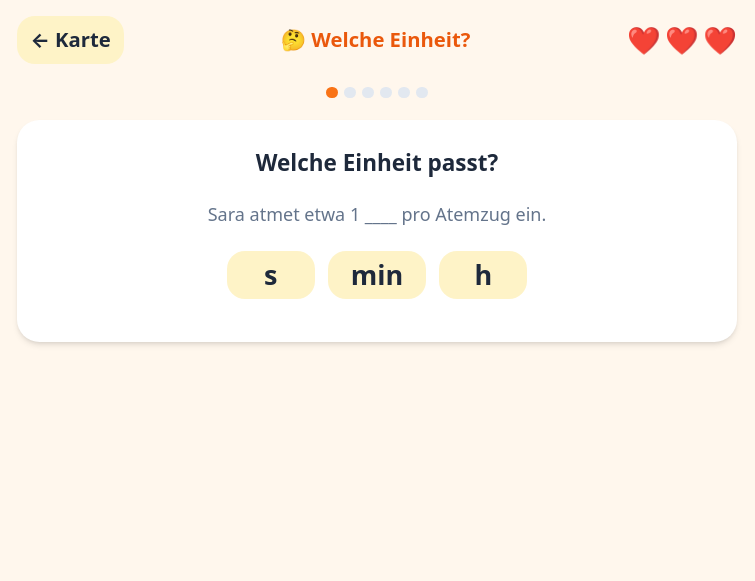
Test: RoundScreen › renders a task and gives feedback after a multiple-choice answer
The image size is (755, 581).
expect the heading "Welche Einheit passt?" is shown: met, box [256,147,498,178]
Click the button "s" at {"x": 271, "y": 275}, box [227,251,315,299]
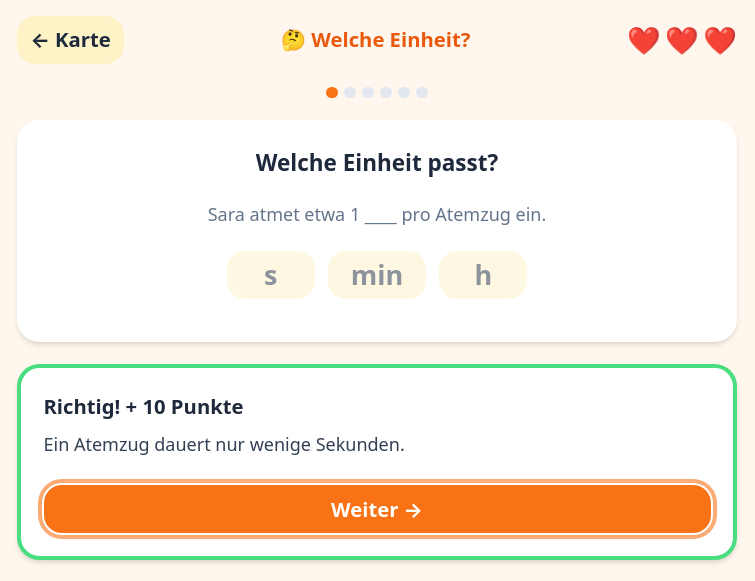
expect the message "Richtig! + 10 Punkte Ein Atemzug dauert nur wenige Sekunden. Weiter →" is shown: met, box [17,364,737,560]
expect the button "Weiter →" is shown: met, box [44,485,710,533]
